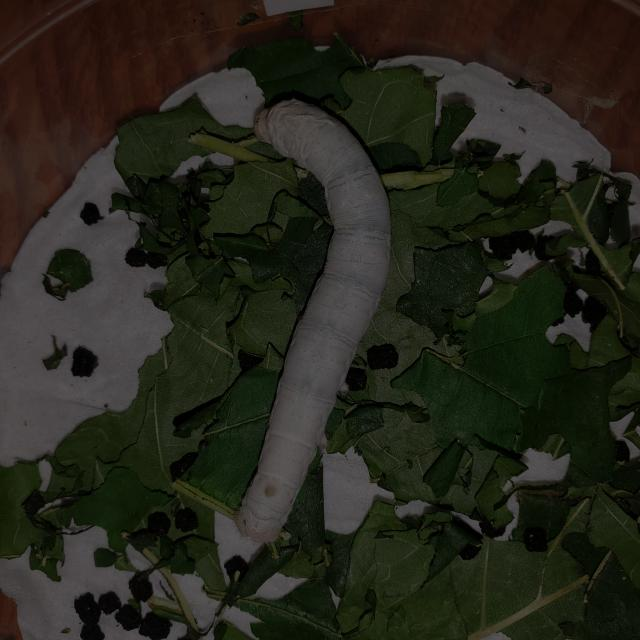Healthy: (225, 85, 398, 545)
